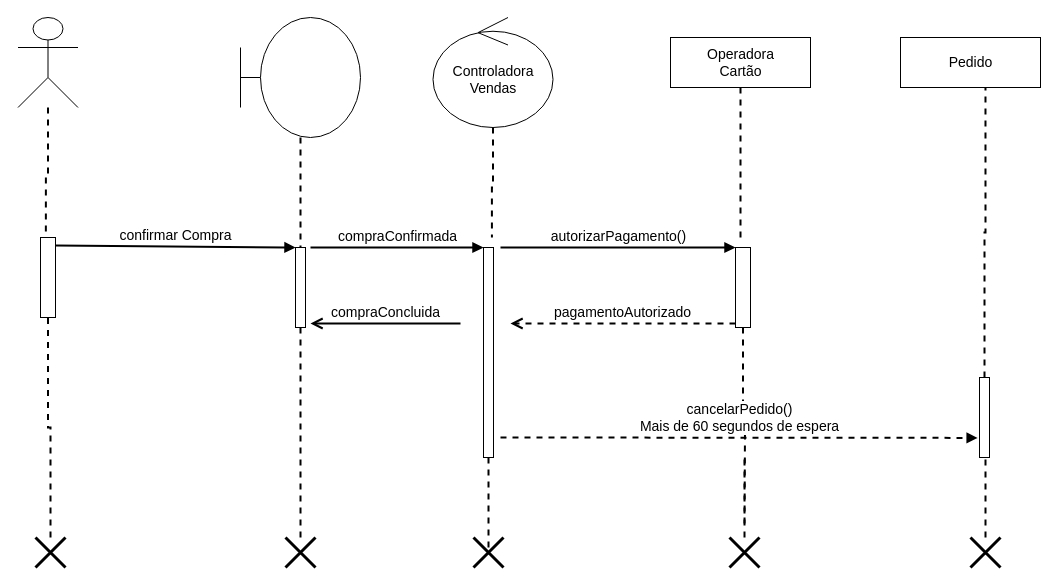
Image size: 1058x586. Some labels were removed from this diagram. Each missing label, with the box of its shape:
Cliente: (17, 16, 78, 108)
Visão Vendas: (240, 16, 360, 138)
